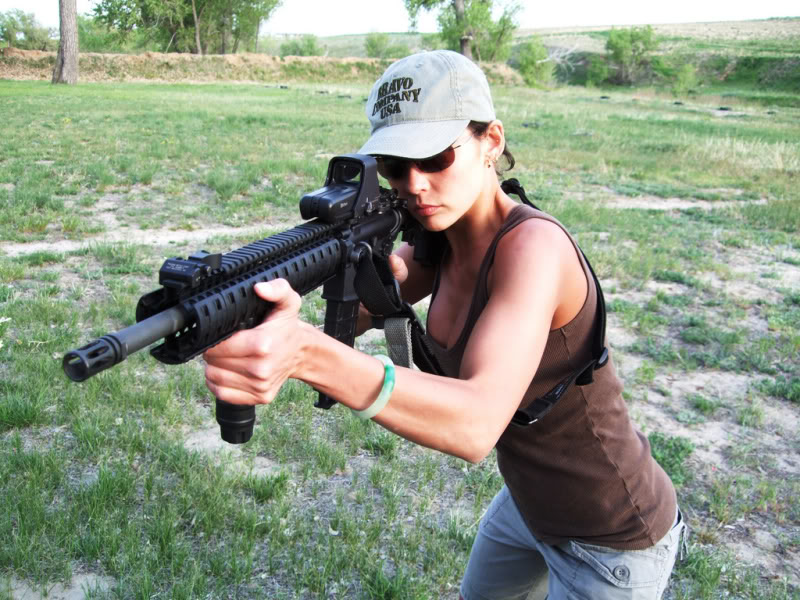Rifle: (62, 150, 437, 451)
